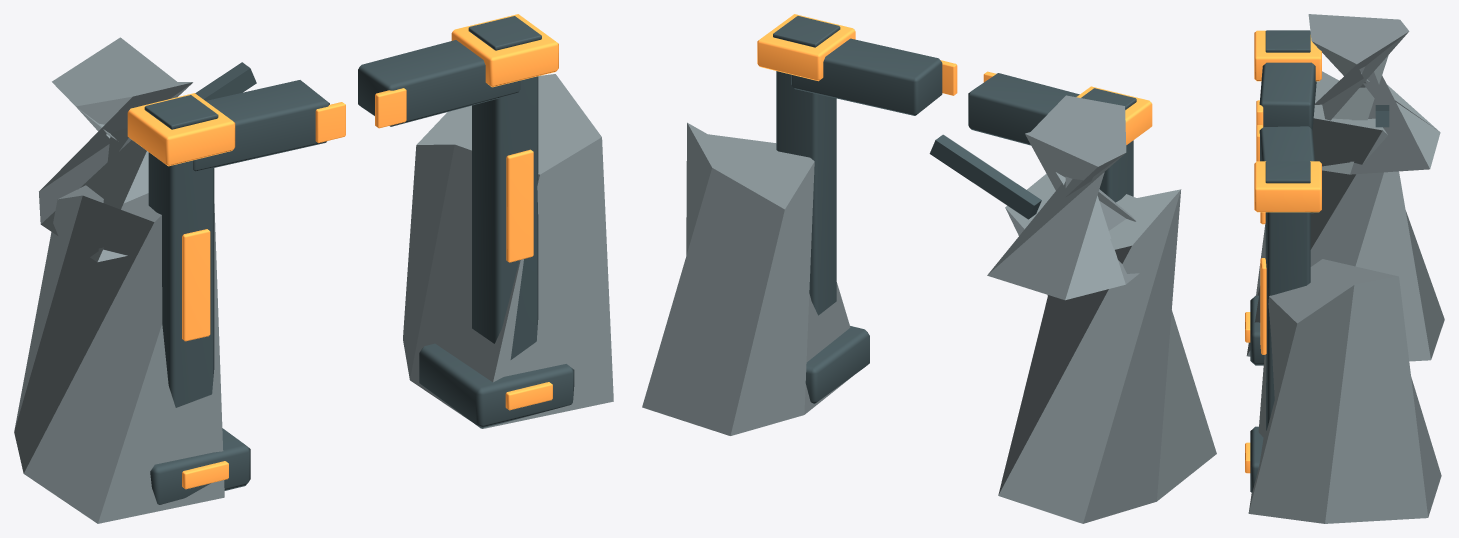
Rendered from landmark-twin-pass-gate.glb.
The picture shows the model from 3 angles, left to right: view 1: azimuth 30°, elevation 25°; view 2: azimuth 150°, elevation 25°; view 3: azimuth 270°, elevation 25°; orthographic projection. The views are drawn at different scales.
Visible parts, largest first — view 1: landmark-twin-pass-gate | Pass shale, landmark-twin-pass-gate | Shadowed gate steel, landmark-twin-pass-gate | Warm hazard enamel; view 2: landmark-twin-pass-gate | Pass shale, landmark-twin-pass-gate | Shadowed gate steel, landmark-twin-pass-gate | Warm hazard enamel; view 3: landmark-twin-pass-gate | Pass shale, landmark-twin-pass-gate | Shadowed gate steel, landmark-twin-pass-gate | Warm hazard enamel.
Boxes of the visible parts, box(x1,y1,x2,y2) form: landmark-twin-pass-gate | Pass shale: box(14, 37, 613, 523); landmark-twin-pass-gate | Shadowed gate steel: box(144, 16, 574, 504); landmark-twin-pass-gate | Warm hazard enamel: box(127, 14, 558, 489); landmark-twin-pass-gate | Pass shale: box(642, 95, 1216, 523); landmark-twin-pass-gate | Shadowed gate steel: box(773, 16, 1136, 403); landmark-twin-pass-gate | Warm hazard enamel: box(757, 14, 1152, 144); landmark-twin-pass-gate | Pass shale: box(1246, 14, 1444, 523); landmark-twin-pass-gate | Shadowed gate steel: box(1250, 30, 1389, 492); landmark-twin-pass-gate | Warm hazard enamel: box(1245, 30, 1321, 473).
Size of the model in its own units: 4.12 by 2.83 by 1.59.
